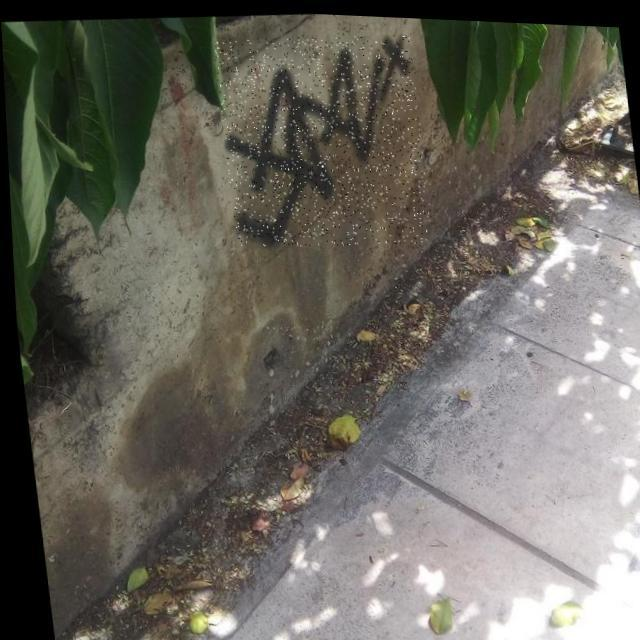-: (211, 24, 432, 252)
